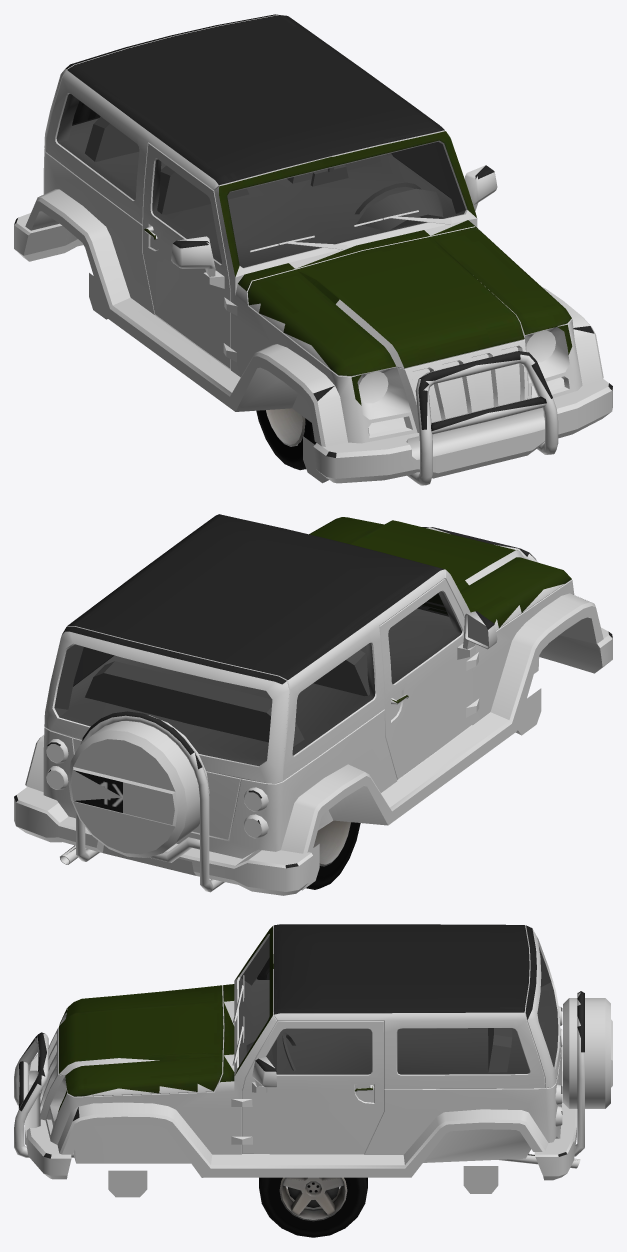
File: offroad.glb
3 views of the same model, one above another, from view 1: azimuth 30°, elevation 25°; view 2: azimuth 150°, elevation 25°; view 3: azimuth 270°, elevation 25° (orthographic). The views are drawn at different scales.
Parts seen in each view (by area): view 1: lod0, wheel_lod0; view 2: lod0, wheel_lod0; view 3: lod0, wheel_lod0.
Part boxes in pixels (<box>): lod0: <box>14,14,612,485</box>; wheel_lod0: <box>256,408,316,470</box>; lod0: <box>14,514,612,895</box>; wheel_lod0: <box>306,820,360,889</box>; lod0: <box>14,924,612,1197</box>; wheel_lod0: <box>259,1177,367,1237</box>.
Size of what is drawn, in the model's own units: 1.96 by 1.93 by 3.94.
Materials: 6 (2 with a texture image).
